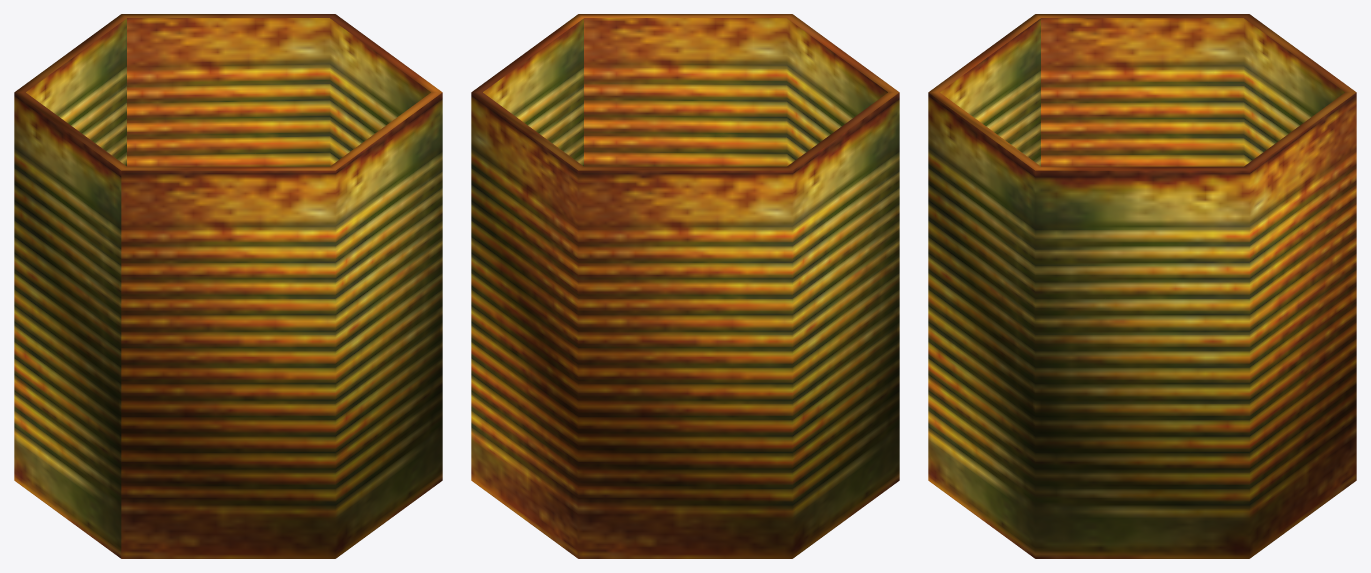
The model's file is djspit-lata.obj.
3 renders of one model, left to right at view 1: azimuth 30°, elevation 25°; view 2: azimuth 150°, elevation 25°; view 3: azimuth 270°, elevation 25°, orthographic.
Parts seen in each view (by area): view 1: Tin_2.001; view 2: Tin_2.001; view 3: Tin_2.001.
Part boxes in pixels (x1,y1,x2,y2): Tin_2.001: (14,14,442,558); Tin_2.001: (471,14,899,558); Tin_2.001: (928,14,1356,558).
Bounding box in the file's own units: 0.5698 × 0.6579 × 0.6579.
